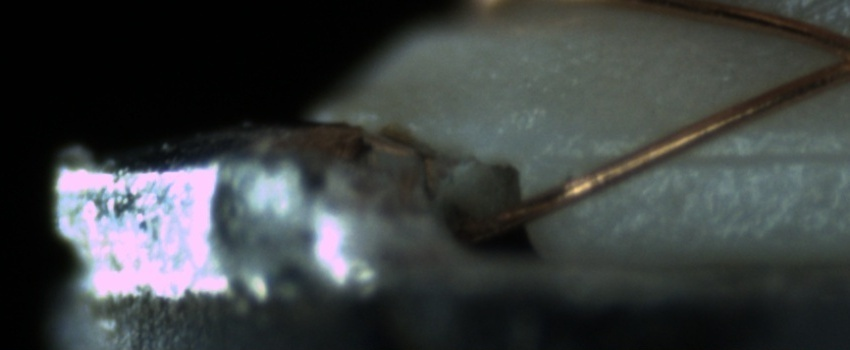CL: (805, 24, 850, 91)
DL: (566, 124, 848, 187)
